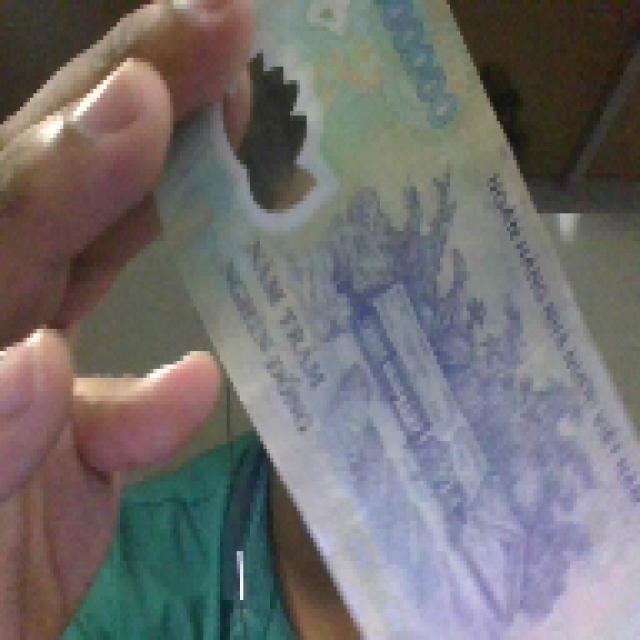500 000 VND: (140, 0, 637, 636)
